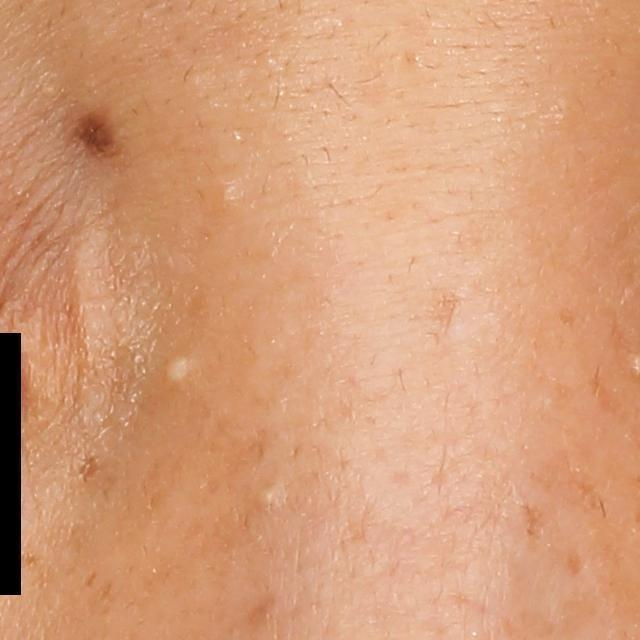atrophic_scar: (424, 286, 457, 336)
comedo: (251, 483, 284, 516)
melasma: (532, 450, 625, 529), (63, 106, 125, 162), (237, 591, 295, 639), (516, 500, 552, 553), (74, 454, 106, 488), (80, 569, 100, 590)
other: (64, 213, 136, 424), (201, 181, 251, 227), (160, 349, 197, 397)
